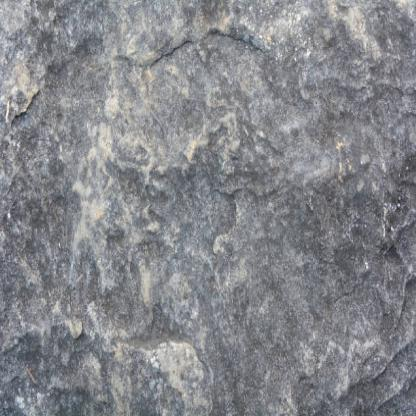Sedimentary_Sandstone: (4, 5, 416, 415)
